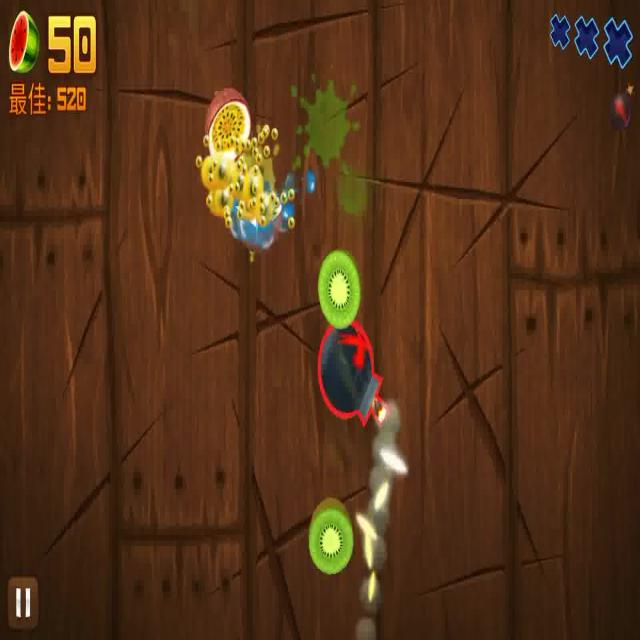bomb: (317, 322, 391, 430)
fruit: (201, 88, 253, 168), (307, 500, 353, 574), (320, 250, 360, 328)
